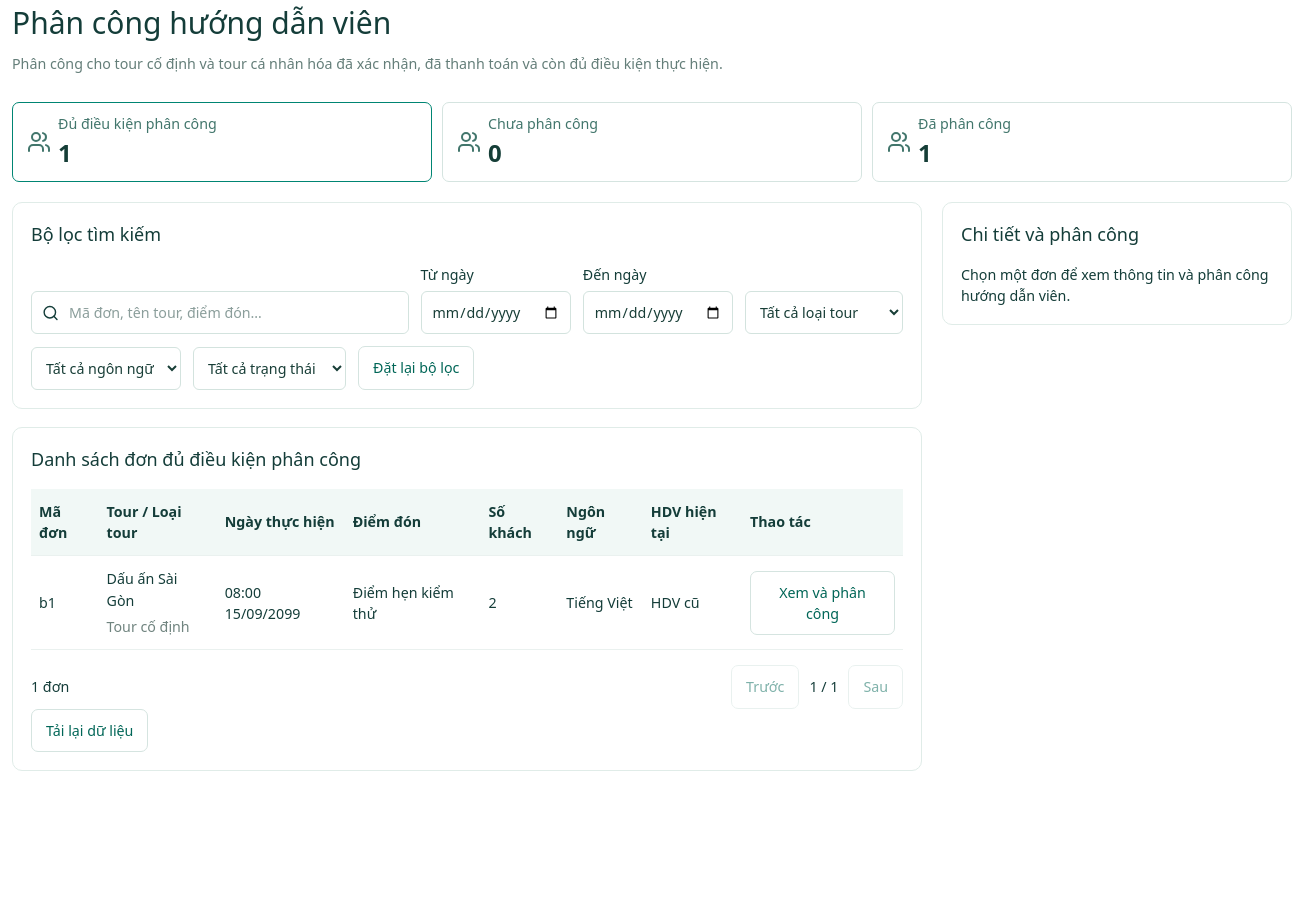
Test: reassignment is saved only after confirmation and refreshes the current guide
The width and height of the screenshot is (1304, 900).
Click the button "Xem và phân công" at (822, 603), box [750,571,895,635]
(page scrolled)
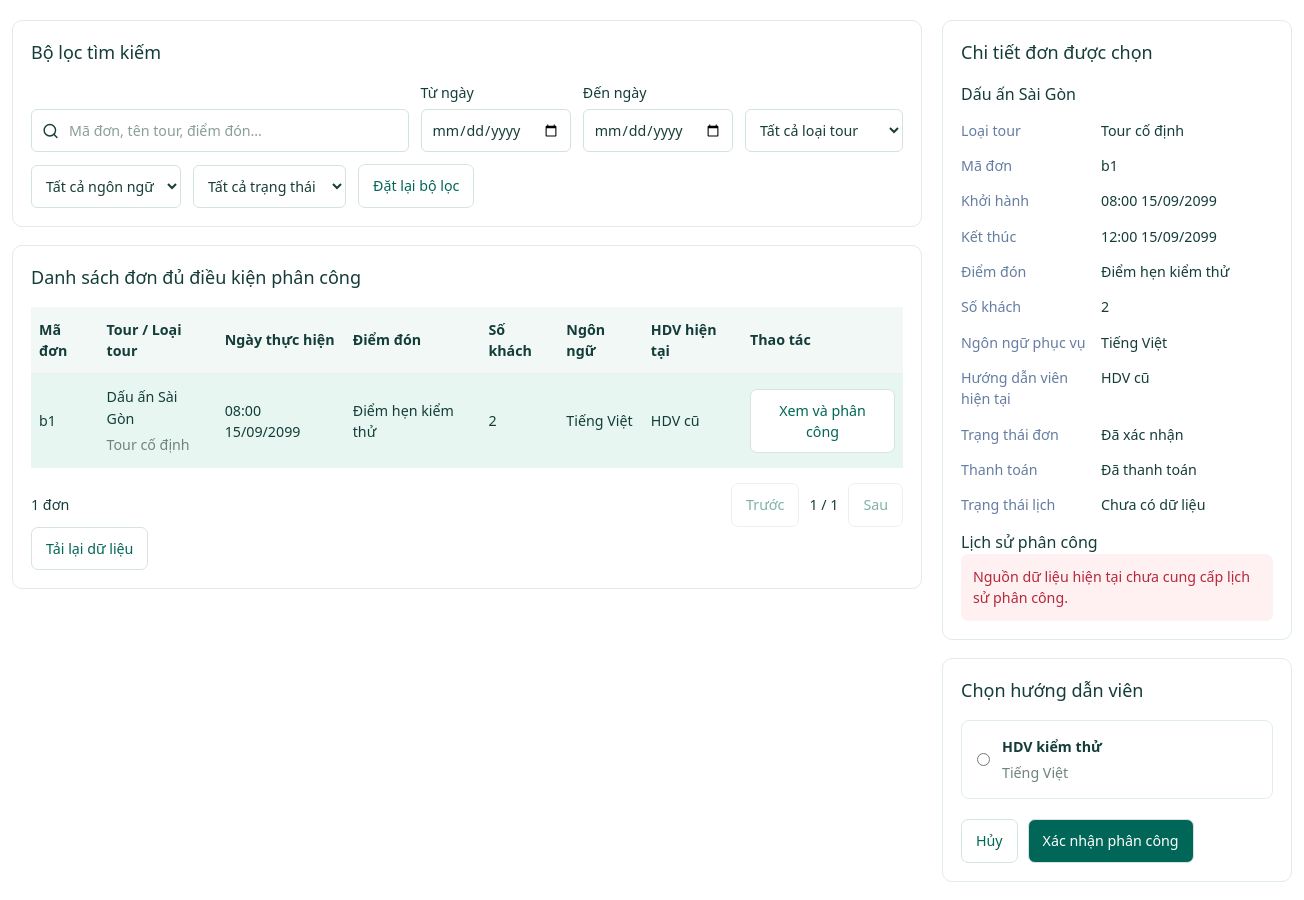
Click the radio button labelled "HDV kiểm thử Tiếng Việt" at (984, 759), box [977,753,990,766]
(page scrolled)
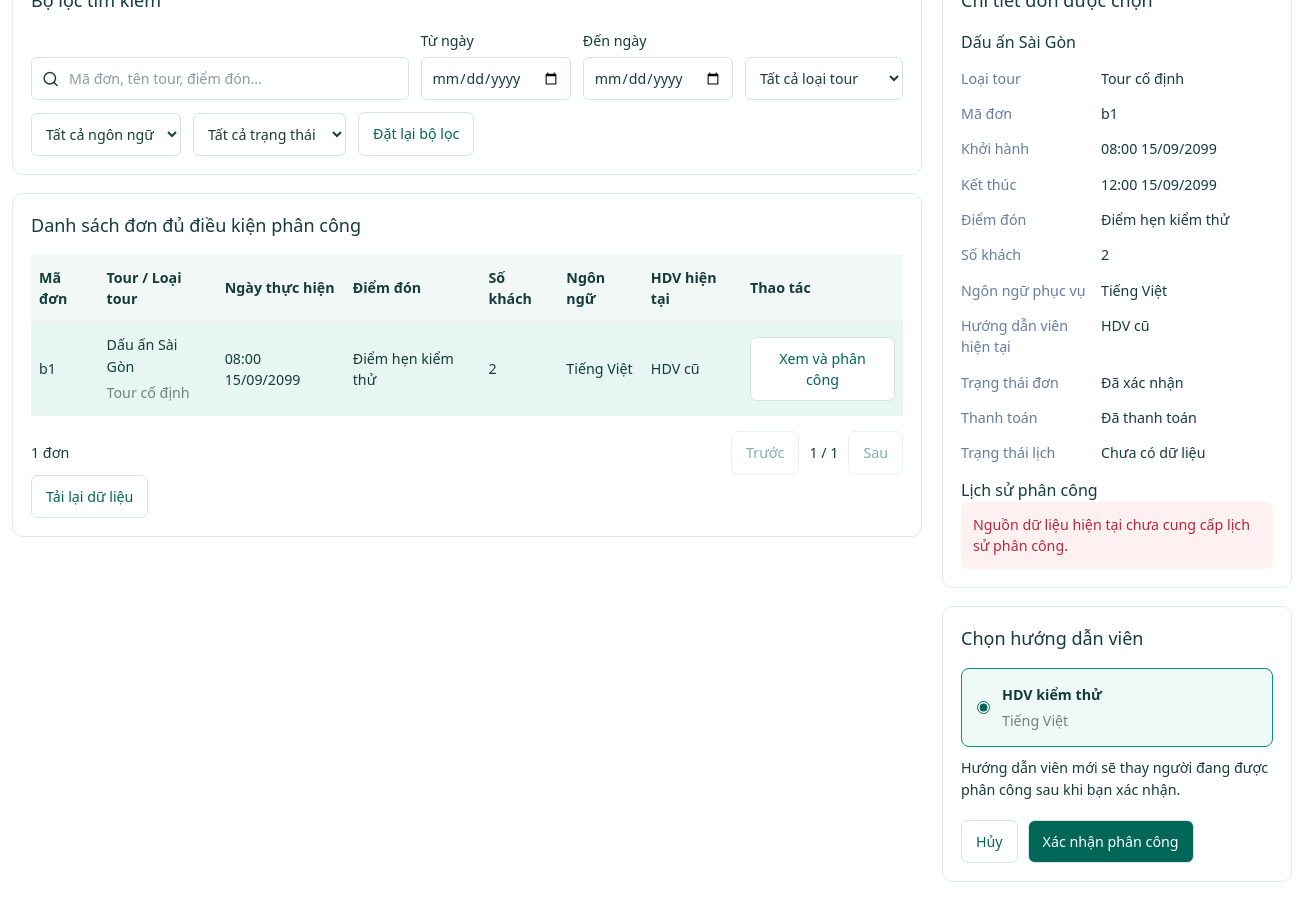
Click the button "Xác nhận phân công" at (1111, 842), box [1028,820,1194,863]
(page scrolled)
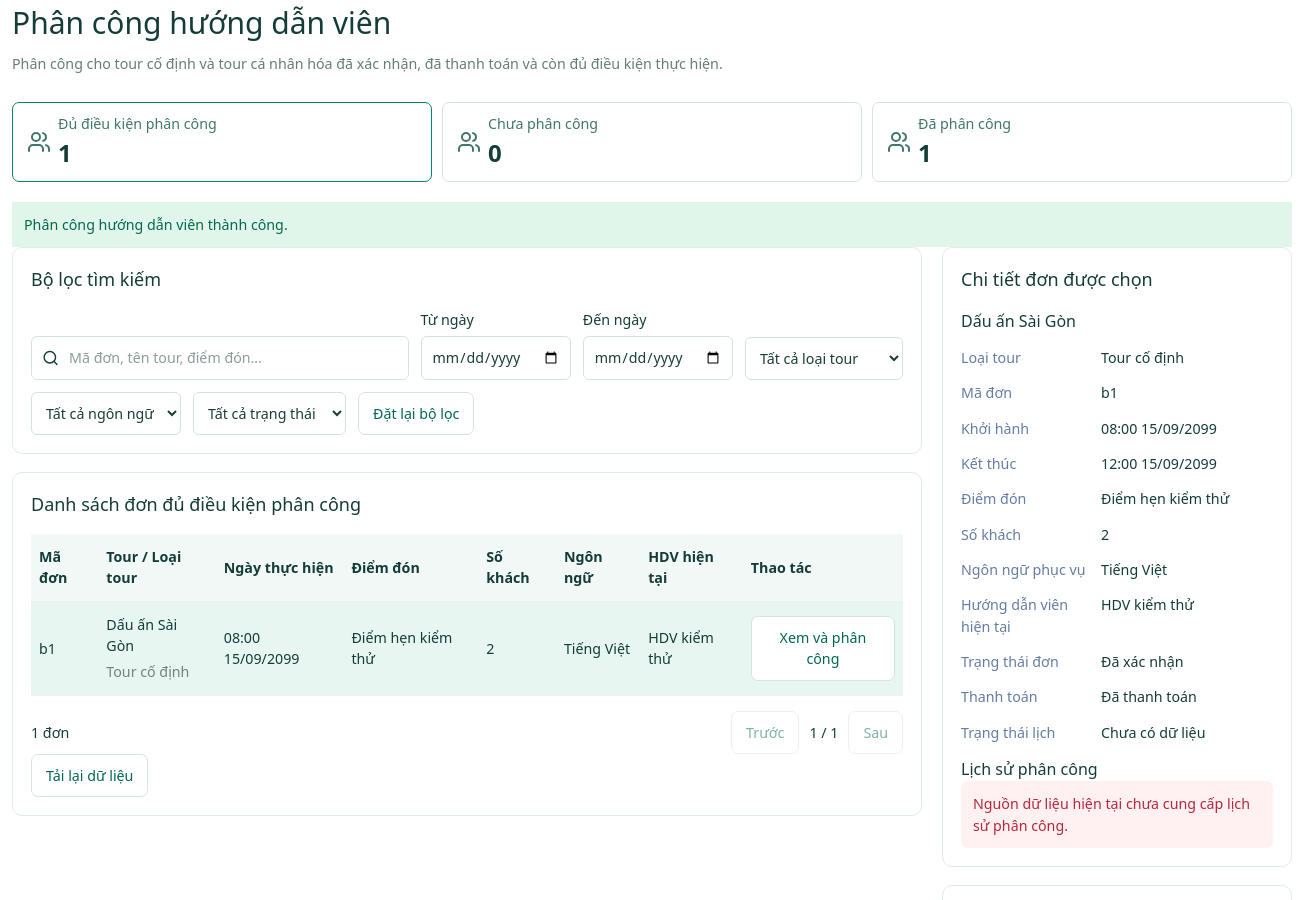
Expected: the text "Phân công hướng dẫn viên thành công." is shown, [12,202,1292,247]
